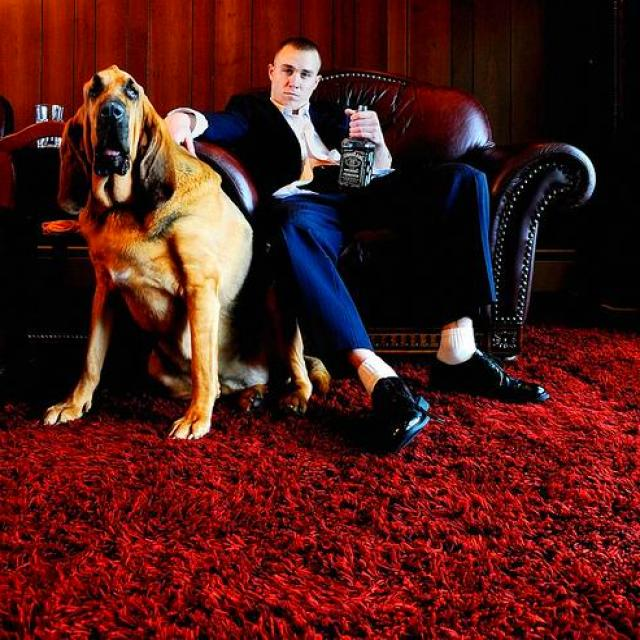bloodhound: (47, 66, 331, 442)
